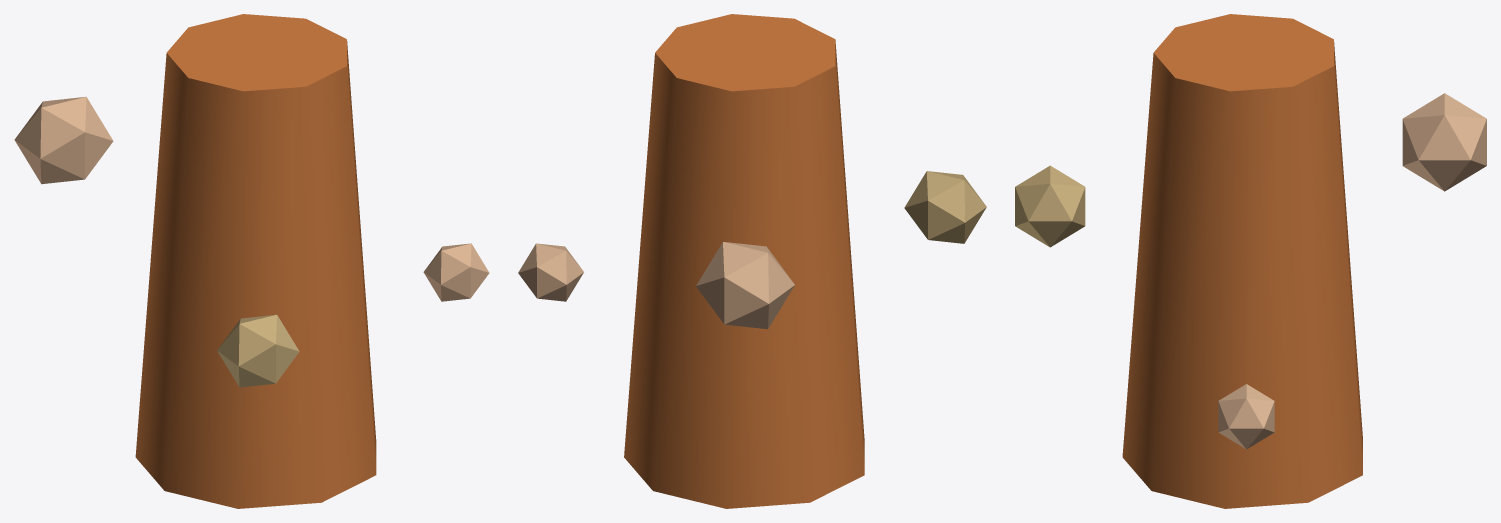
File: landmark.glb
The picture shows the model from 3 angles, left to right: view 1: azimuth 30°, elevation 25°; view 2: azimuth 150°, elevation 25°; view 3: azimuth 270°, elevation 25°; orthographic projection.
Visible parts, largest first — view 1: landmark_core_3, landmark_orbit_2, landmark_orbit_1, landmark_orbit_0; view 2: landmark_core_3, landmark_orbit_2, landmark_orbit_1, landmark_orbit_0; view 3: landmark_core_3, landmark_orbit_2, landmark_orbit_1, landmark_orbit_0.
Part boxes in pixels (x1,y1,x2,y2): landmark_core_3: (135, 14, 376, 508); landmark_orbit_2: (14, 96, 113, 184); landmark_orbit_1: (217, 314, 299, 387); landmark_orbit_0: (423, 243, 489, 301); landmark_core_3: (624, 14, 864, 508); landmark_orbit_2: (696, 242, 794, 329); landmark_orbit_1: (904, 171, 986, 243); landmark_orbit_0: (518, 243, 583, 301); landmark_core_3: (1122, 14, 1362, 508); landmark_orbit_2: (1402, 93, 1486, 191); landmark_orbit_1: (1015, 165, 1085, 247); landmark_orbit_0: (1218, 384, 1274, 449).
Size of what is drawn, in the model's own units: 3.96 by 4.32 by 4.57.
